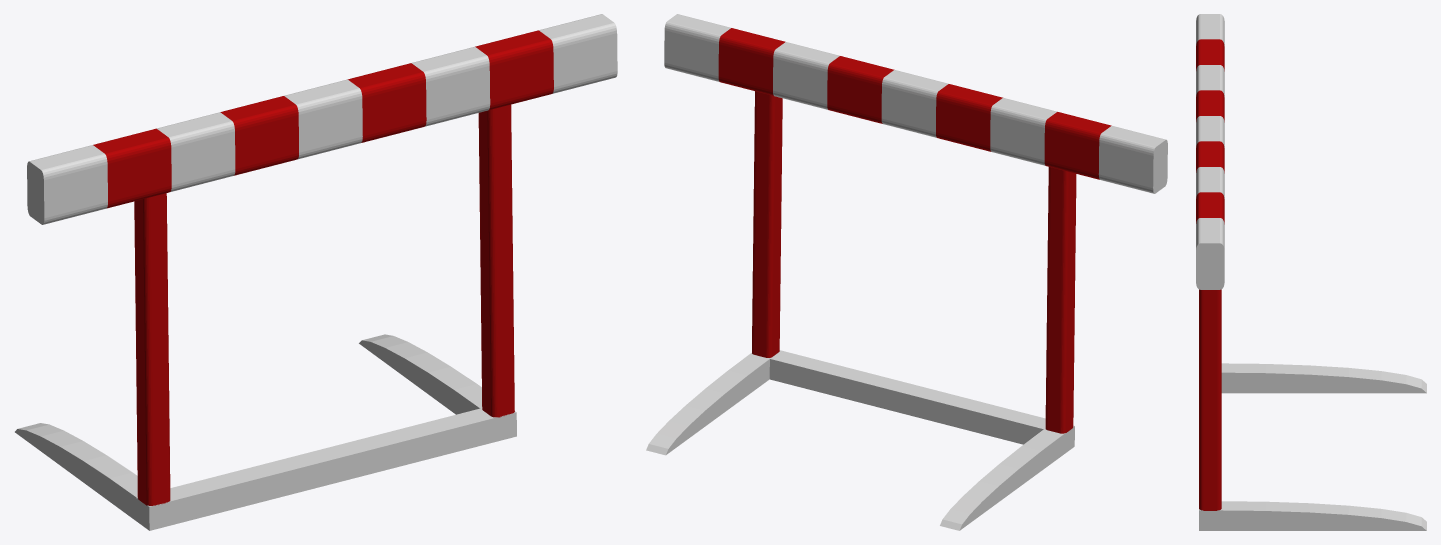
The model's file is VallaAtletismo.fbx.
3 views of the same model, side by side, from view 1: azimuth 30°, elevation 25°; view 2: azimuth 150°, elevation 25°; view 3: azimuth 270°, elevation 25° (orthographic). The views are drawn at different scales.
Parts seen in each view (by area): view 1: Valla; view 2: Valla; view 3: Valla.
Boxes of the visible parts, x1,y1,x2,y2 form: Valla: (15, 14, 617, 530); Valla: (646, 14, 1167, 530); Valla: (1196, 14, 1426, 530).
Size of the model in its own units: 3.33 by 2.19 by 1.38.
